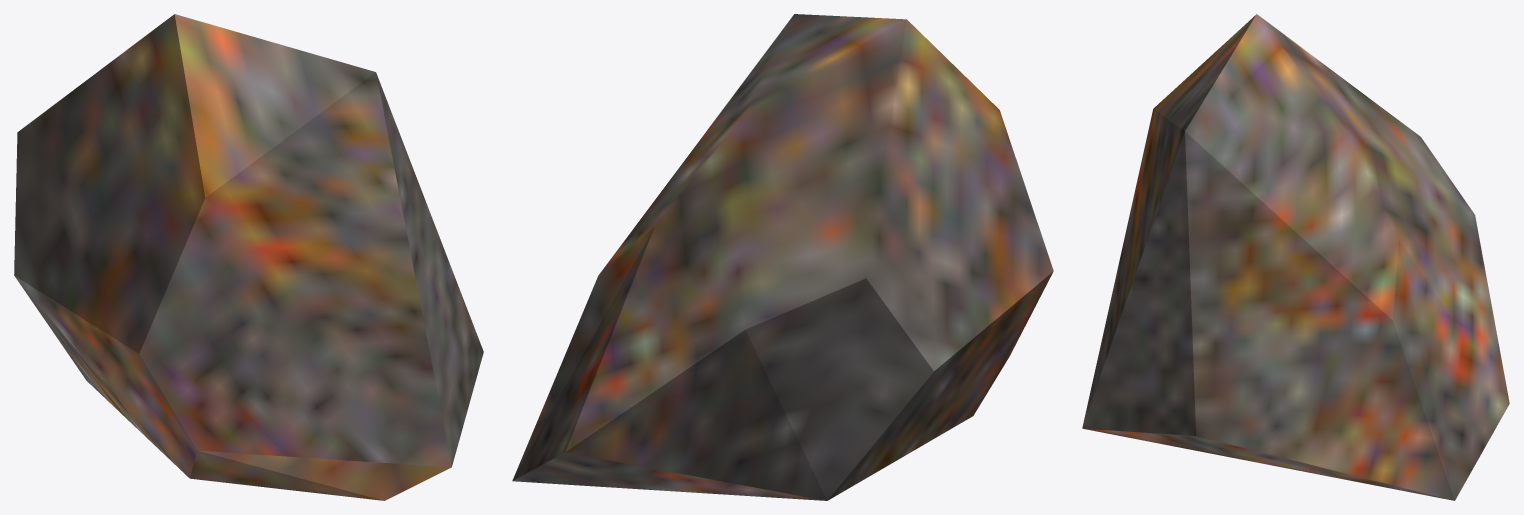
Rendered from JAM_Rock_01.fbx.
3 views of the same model, side by side, from view 1: azimuth 30°, elevation 25°; view 2: azimuth 150°, elevation 25°; view 3: azimuth 270°, elevation 25° (orthographic). The views are drawn at different scales.
Parts seen in each view (by area): view 1: PROPS_Rock_01; view 2: PROPS_Rock_01; view 3: PROPS_Rock_01.
Boxes of the visible parts, x1,y1,x2,y2 form: PROPS_Rock_01: (14,14,483,500); PROPS_Rock_01: (512,14,1053,500); PROPS_Rock_01: (1082,14,1509,500).
Size of the model in its own units: 1 by 1.15 by 1.2.
